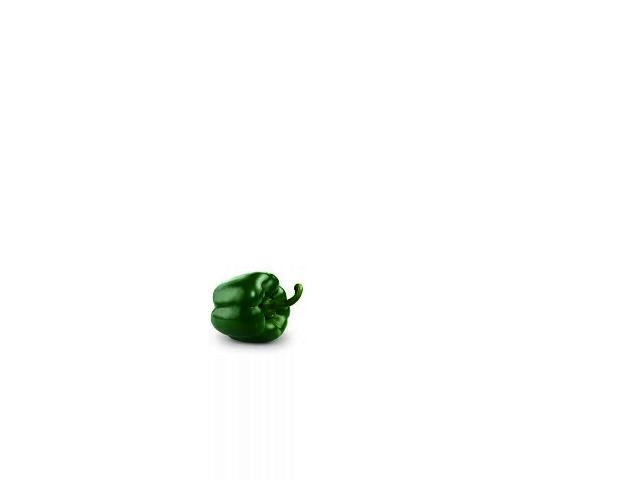bell_pepper: (208, 271, 304, 341)
